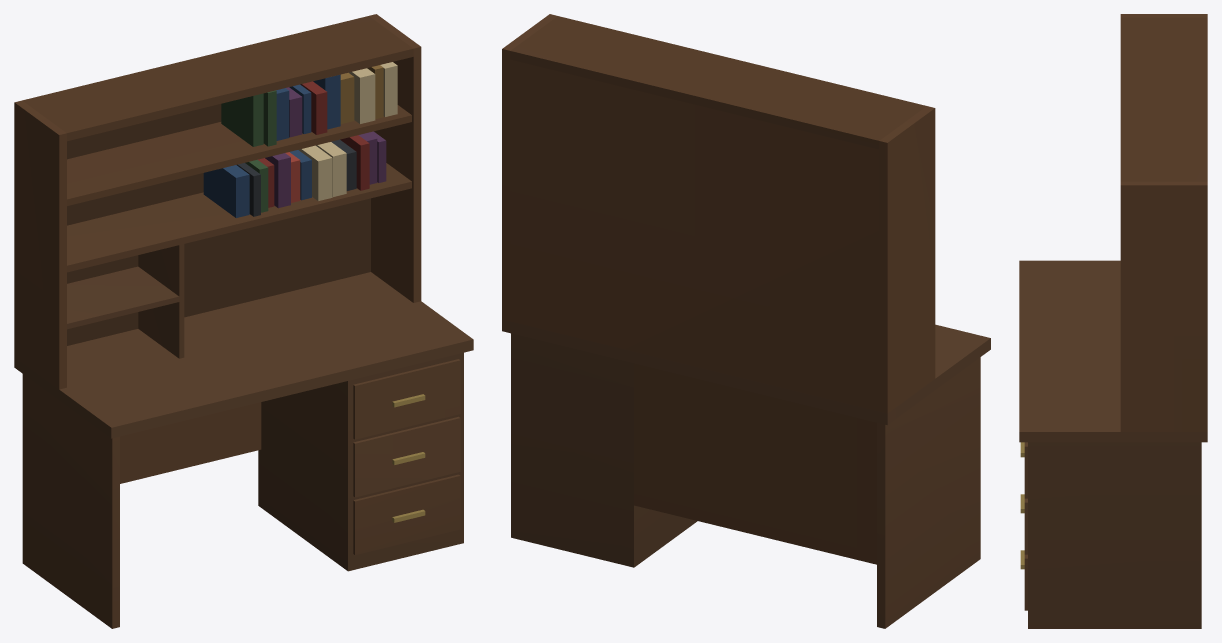
Rendered from table.desk_hutch.walnut.glb.
3 views of the same model, side by side, from view 1: azimuth 30°, elevation 25°; view 2: azimuth 150°, elevation 25°; view 3: azimuth 270°, elevation 25° (orthographic). The views are drawn at different scales.
Parts seen in each view (by area): view 1: table_desk_hutch_walnut; view 2: table_desk_hutch_walnut; view 3: table_desk_hutch_walnut.
Part boxes in pixels (x1,y1,x2,y2): table_desk_hutch_walnut: (14,14,473,628); table_desk_hutch_walnut: (502,14,990,628); table_desk_hutch_walnut: (1019,14,1207,628).
Size of what is drawn, in the model's own units: 1.4 by 1.7 by 0.65.
